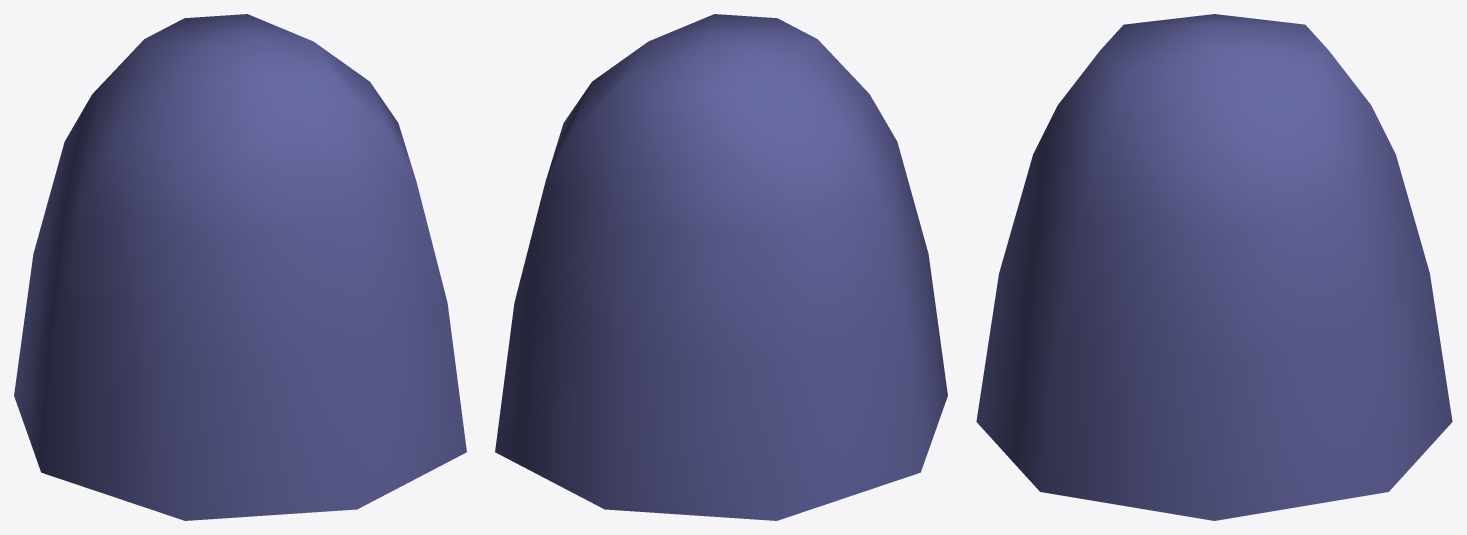
File: AuraBarrier_VFX.gltf
The picture shows the model from 3 angles, left to right: view 1: azimuth 30°, elevation 25°; view 2: azimuth 150°, elevation 25°; view 3: azimuth 270°, elevation 25°; orthographic projection.
Parts seen in each view (by area): view 1: AuraBarrier_VFX; view 2: AuraBarrier_VFX; view 3: AuraBarrier_VFX.
Part boxes in pixels (<box>): AuraBarrier_VFX: <box>14,14,466,520</box>; AuraBarrier_VFX: <box>495,14,947,520</box>; AuraBarrier_VFX: <box>976,14,1452,520</box>.
Bounding box in the file's own units: 2.52 × 2.3 × 2.56.
1 material, 1 textured.
